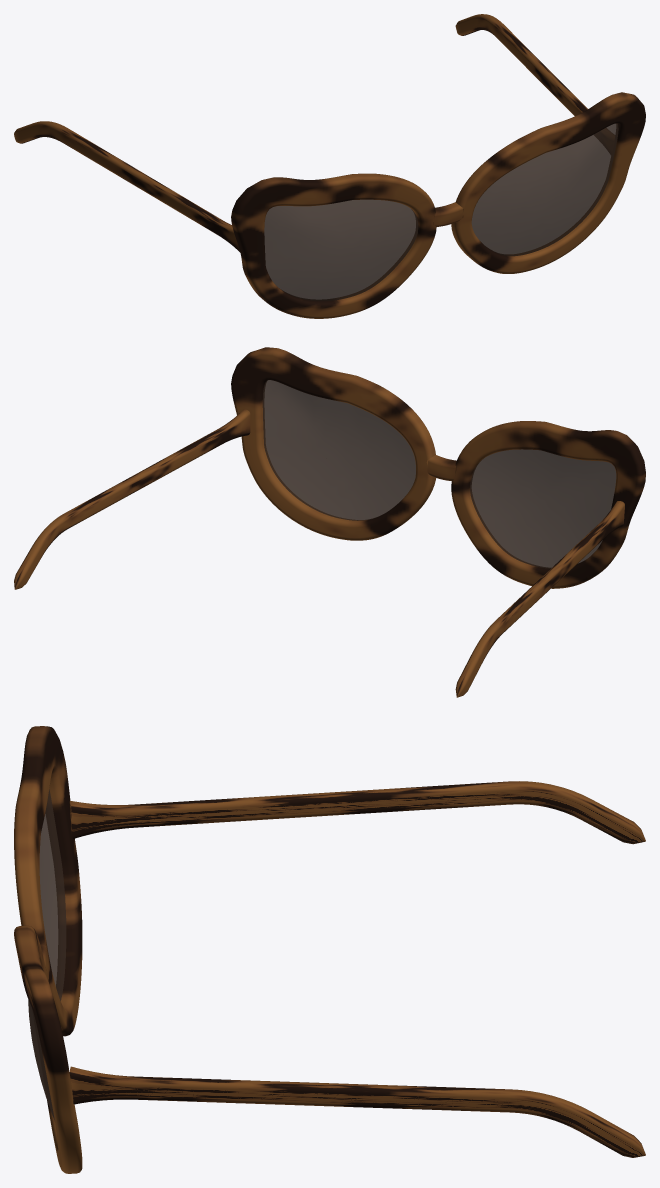
File: cateye-sun.glb
The picture shows the model from 3 angles, top to bottom: view 1: azimuth 30°, elevation 25°; view 2: azimuth 150°, elevation 25°; view 3: azimuth 270°, elevation 25°; orthographic projection. The views are drawn at different scales.
Visible parts, largest first — view 1: glasses; view 2: glasses; view 3: glasses.
Part boxes in pixels (box(x1,y1,x2,y2)): glasses: box(14, 14, 645, 318); glasses: box(14, 347, 645, 697); glasses: box(14, 726, 645, 1173).
Bounding box in the file's own units: 0.1662 × 0.0573 × 0.1388.
Materials: 2 (1 with a texture image).
